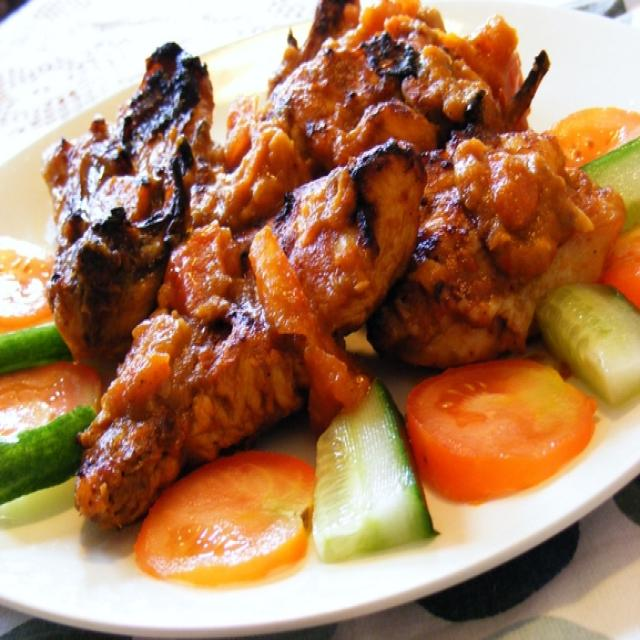鸡肉料理 含炸鸡: (38, 15, 613, 610)
